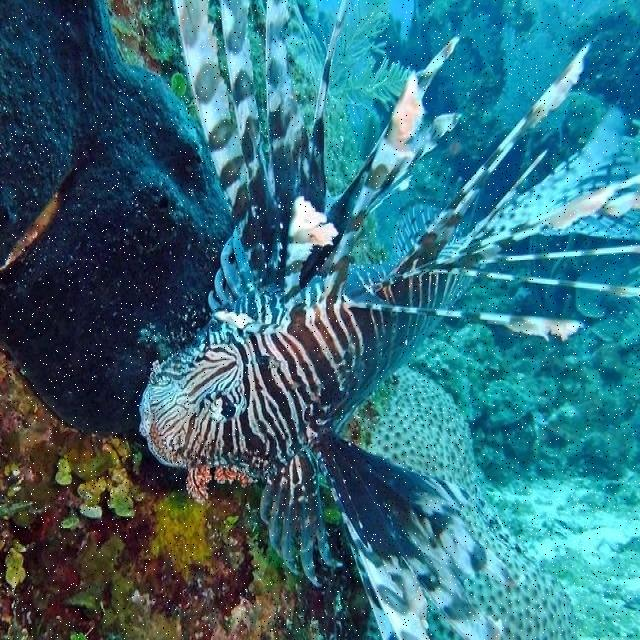fish: (137, 0, 639, 639)
reefs: (345, 367, 578, 639)
